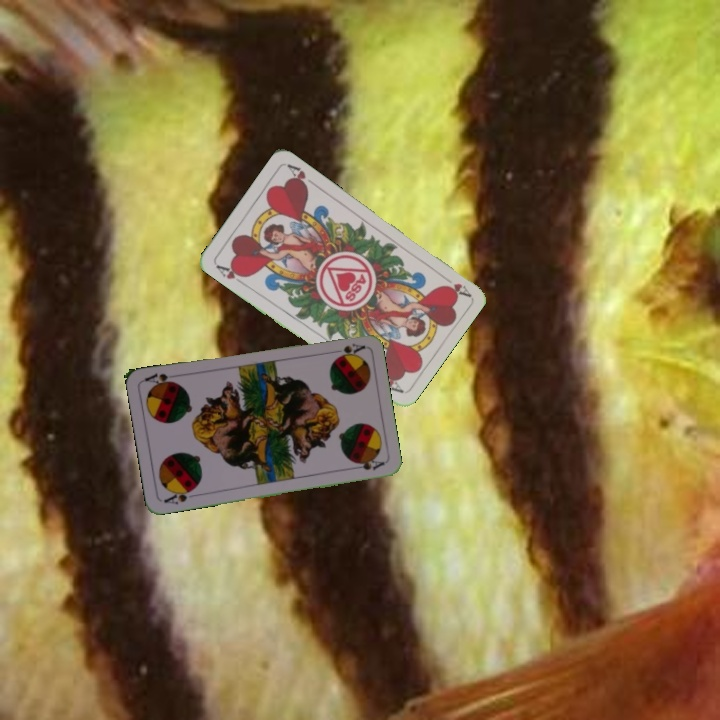HA: (436, 270, 473, 299), (212, 260, 249, 288)
SA: (160, 484, 200, 507), (334, 339, 367, 359)
